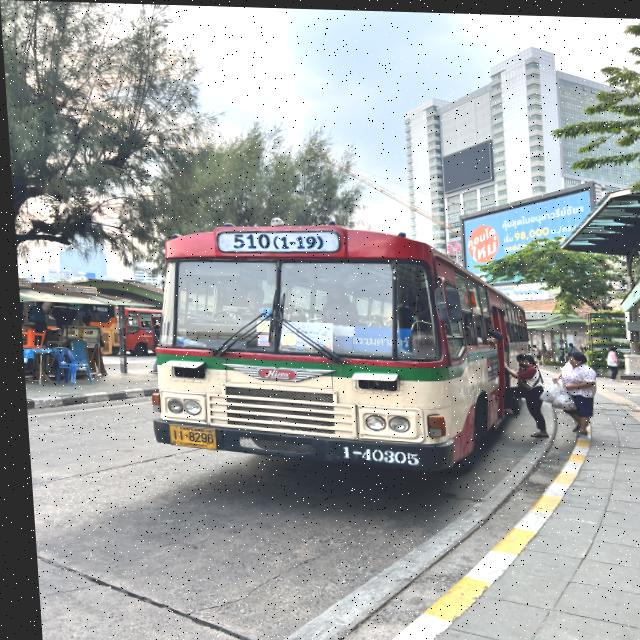BMTA-bus: (136, 220, 539, 477)
Bus-Line-Number: (214, 228, 337, 255)
Destination-Sign-Normal: (329, 321, 408, 352)
